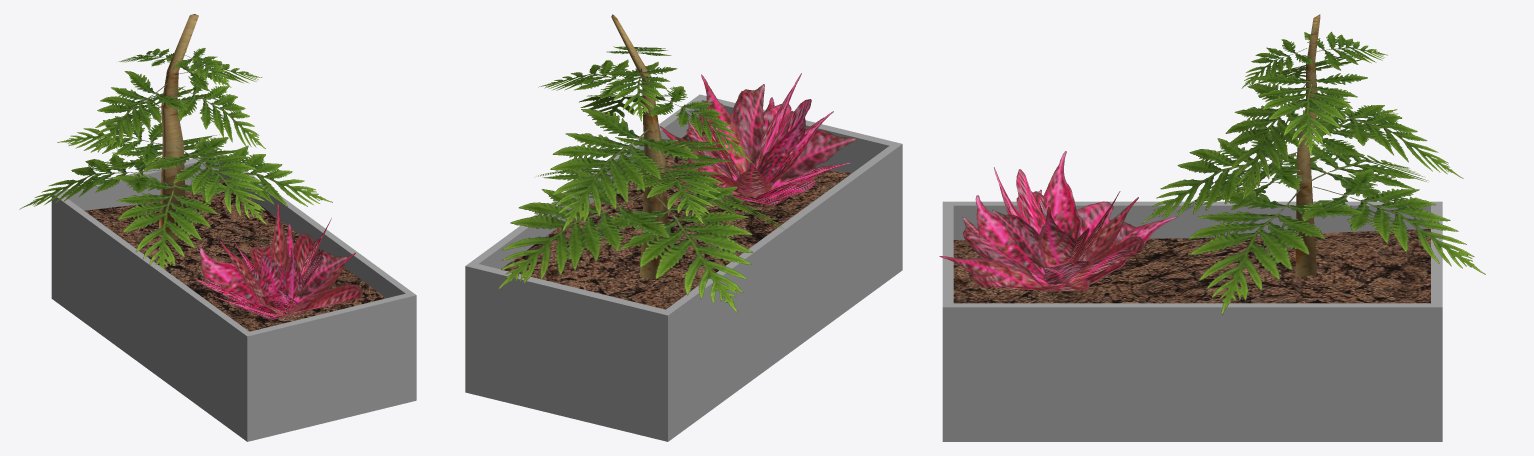
Rendered from Model_Plant_Potted_Small_03.fbx.
The picture shows the model from 3 angles, left to right: view 1: azimuth 30°, elevation 25°; view 2: azimuth 150°, elevation 25°; view 3: azimuth 270°, elevation 25°; orthographic projection. The views are drawn at different scales.
Parts seen in each view (by area): view 1: Plant_Potted_Small_03; view 2: Plant_Potted_Small_03; view 3: Plant_Potted_Small_03.
Boxes of the visible parts, box(x1,y1,x2,y2) form: Plant_Potted_Small_03: box(19, 14, 416, 441); Plant_Potted_Small_03: box(465, 14, 902, 441); Plant_Potted_Small_03: box(939, 14, 1485, 441).
Size of the model in its own units: 178 by 167 by 236.
